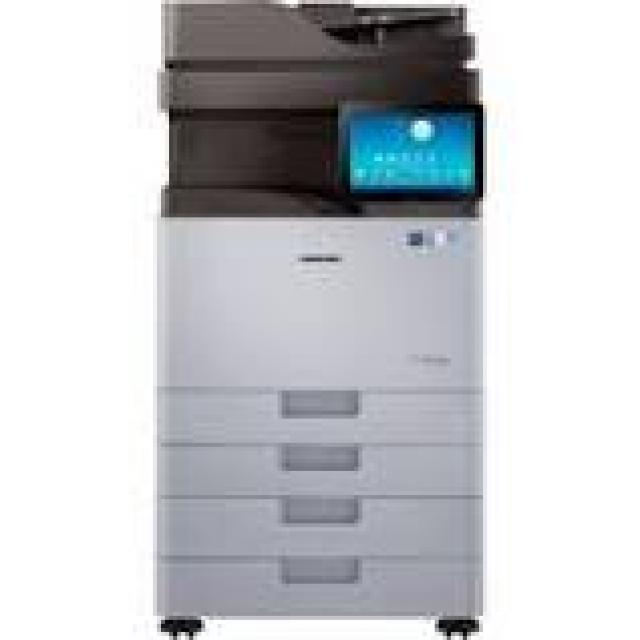printer: (121, 0, 540, 640)
